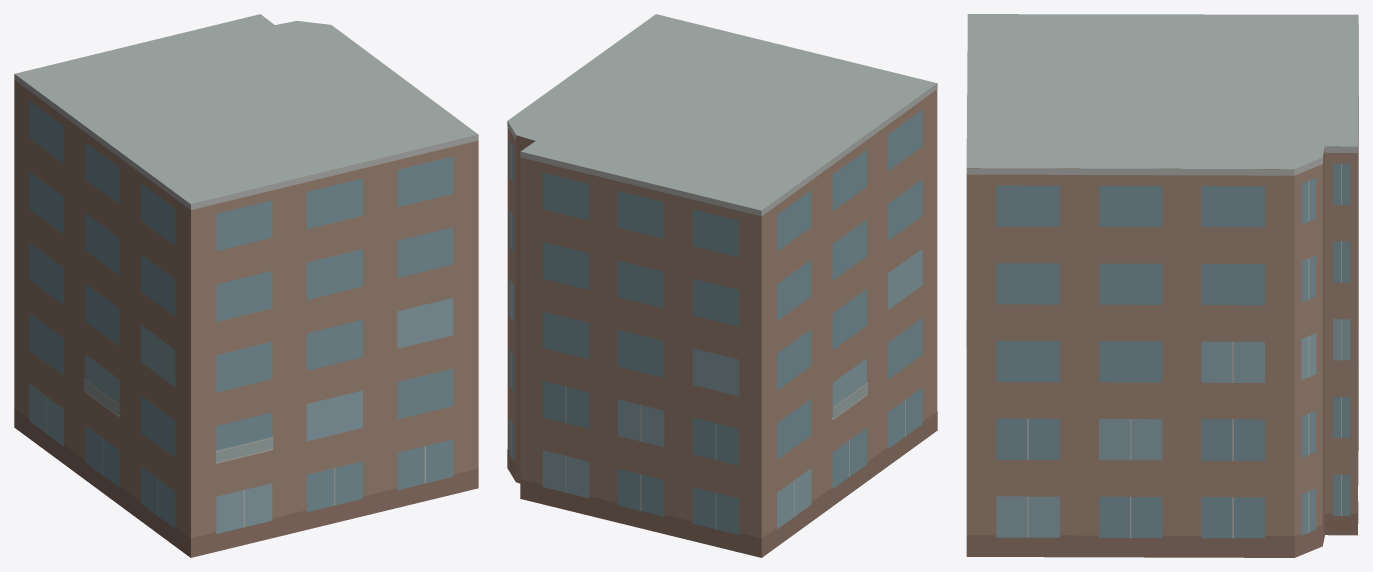
The model's file is survey-upis-32581674.glb.
3 views of the same model, side by side, from view 1: azimuth 30°, elevation 25°; view 2: azimuth 150°, elevation 25°; view 3: azimuth 270°, elevation 25° (orthographic). The views are drawn at different scales.
Visible parts, largest first — view 1: survey-upis-32581674.tmp; view 2: survey-upis-32581674.tmp; view 3: survey-upis-32581674.tmp.
Boxes of the visible parts, left/top/right/bottom form: survey-upis-32581674.tmp: left=14, top=14, right=478, bottom=557; survey-upis-32581674.tmp: left=507, top=14, right=937, bottom=557; survey-upis-32581674.tmp: left=966, top=14, right=1358, bottom=557.
Size of the model in its own units: 12.56 by 14.65 by 13.4.
